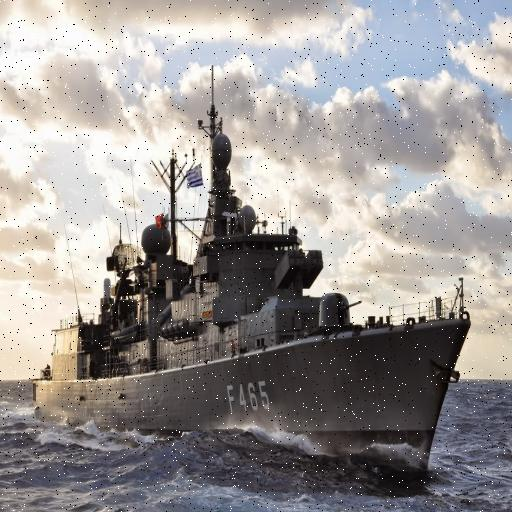Fragata: (22, 50, 479, 484)
